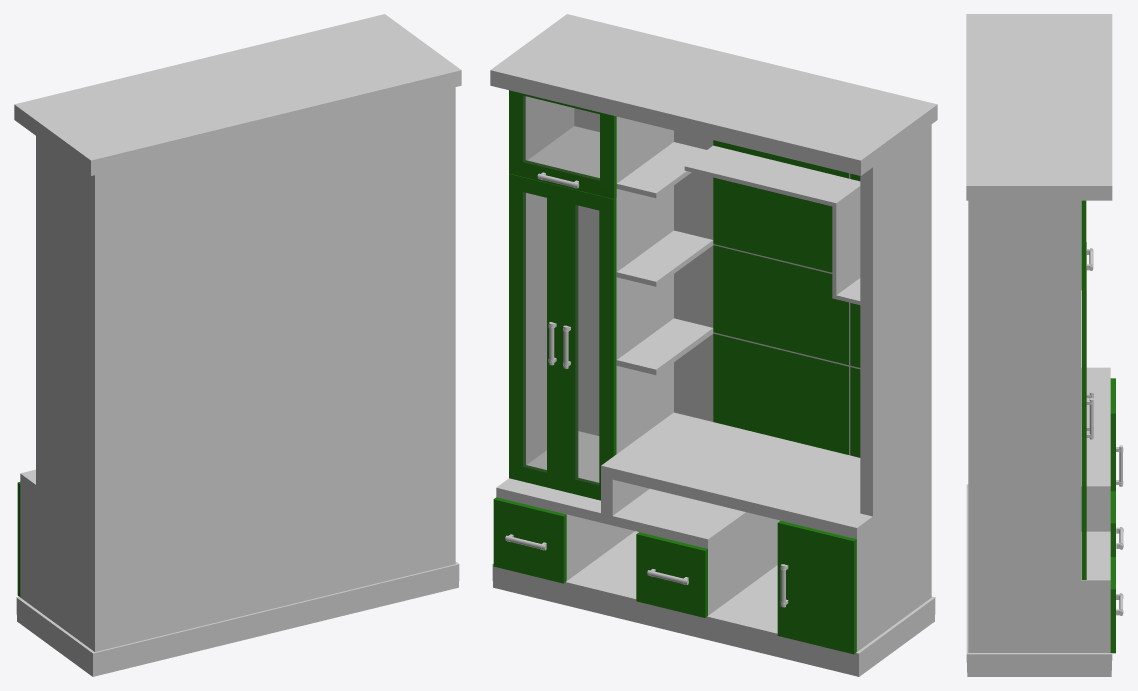
Rendered from lemari_hijau_2.glb.
3 views of the same model, side by side, from view 1: azimuth 30°, elevation 25°; view 2: azimuth 150°, elevation 25°; view 3: azimuth 270°, elevation 25° (orthographic). The views are drawn at different scales.
Visible parts, largest first — view 1: Cube; view 2: Cube; view 3: Cube.
Boxes of the visible parts, left/top/right/bottom form: Cube: left=14, top=14, right=461, bottom=676; Cube: left=490, top=14, right=937, bottom=676; Cube: left=966, top=14, right=1123, bottom=676.
Size of the model in its own units: 5.73 by 7.64 by 2.21.
